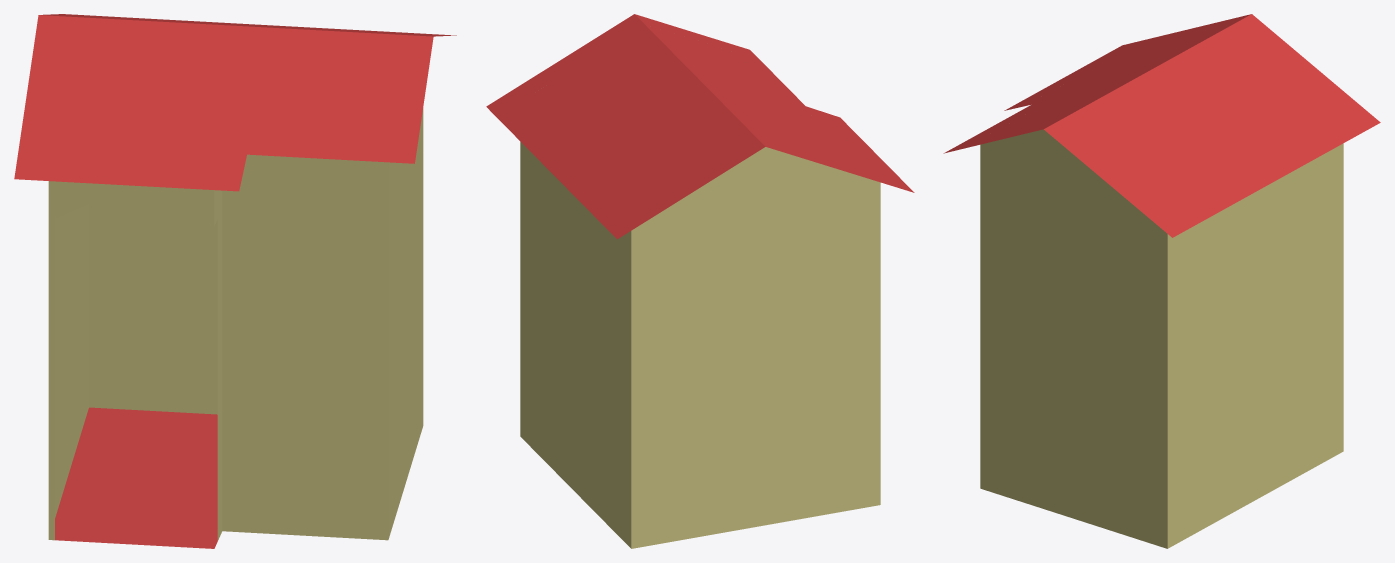
3 views of the same model, side by side, from view 1: azimuth 30°, elevation 25°; view 2: azimuth 150°, elevation 25°; view 3: azimuth 270°, elevation 25° (orthographic). The views are drawn at different scales.
Visible parts, largest first — view 1: group_5, group_3, group_6, group_4; view 2: group_5, group_3, group_4; view 3: group_5, group_3, group_4.
Boxes of the visible parts, x1,y1,x2,y2 form: group_5: [48, 108, 423, 540]; group_3: [14, 14, 432, 191]; group_6: [55, 407, 217, 548]; group_4: [15, 14, 456, 191]; group_5: [520, 142, 880, 548]; group_3: [520, 14, 914, 239]; group_4: [486, 14, 903, 238]; group_5: [980, 129, 1343, 548]; group_3: [981, 14, 1380, 236]; group_4: [943, 14, 1379, 237].
Size of the model in its own units: 13.34 by 12.41 by 12.32.
